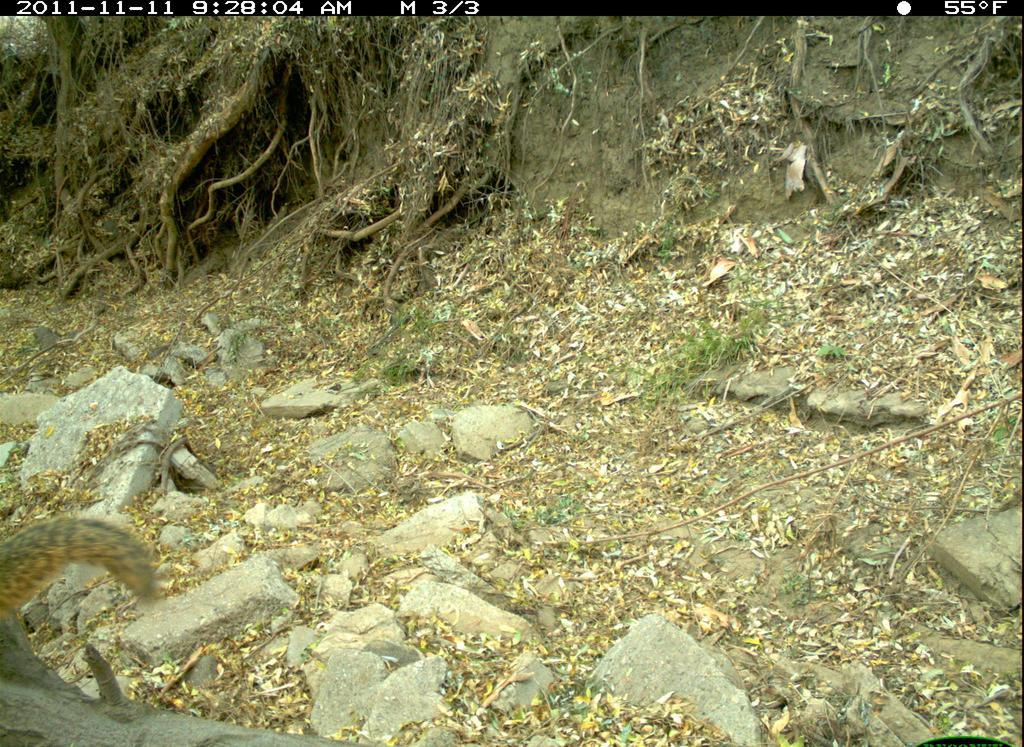squirrel: (1, 500, 159, 640)
